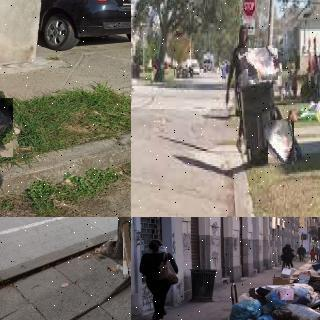Garbage: (266, 120, 296, 166), (247, 46, 280, 82), (0, 93, 16, 161), (266, 284, 315, 305), (229, 295, 263, 320), (272, 303, 320, 320), (120, 217, 131, 275), (237, 65, 253, 84)
